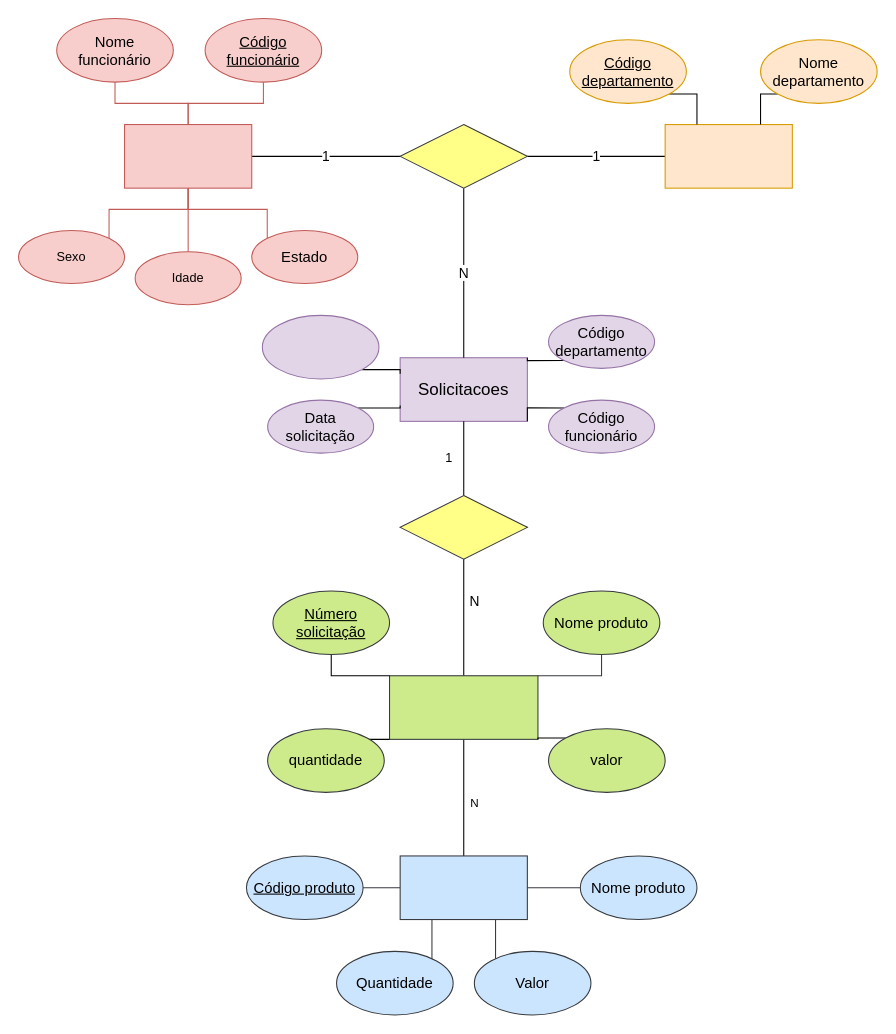
Image size: 896x1034. Some labels were removed from this diagram. Each missing label, with the box of its shape:
Departamentos: (664, 123, 792, 188)
Fazem: (399, 123, 527, 188)
Funcionario: (123, 123, 252, 188)
Itens_solicitação: (388, 675, 538, 739)
Número solicitacao: (261, 314, 379, 379)
Pedem: (399, 494, 527, 559)
Produtos: (399, 855, 527, 920)
